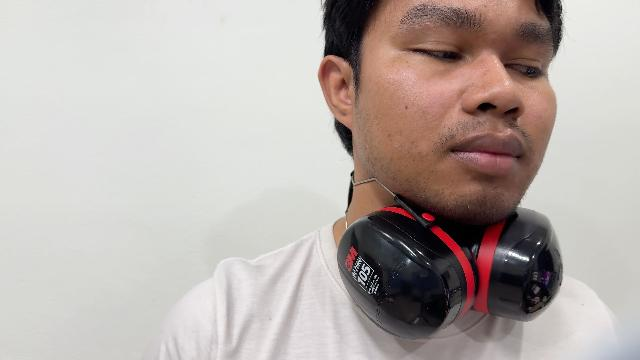headphones: (338, 173, 562, 338)
right_ear: (319, 55, 354, 131)
